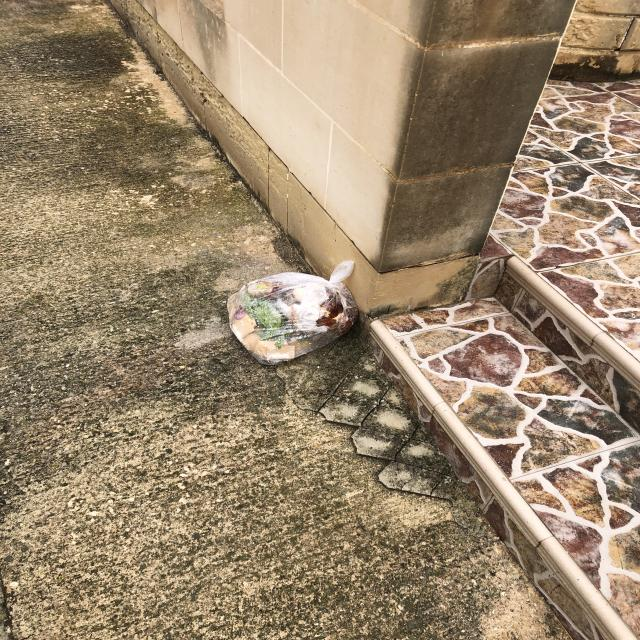Organic Waste -White Bag-: (221, 260, 368, 366)
